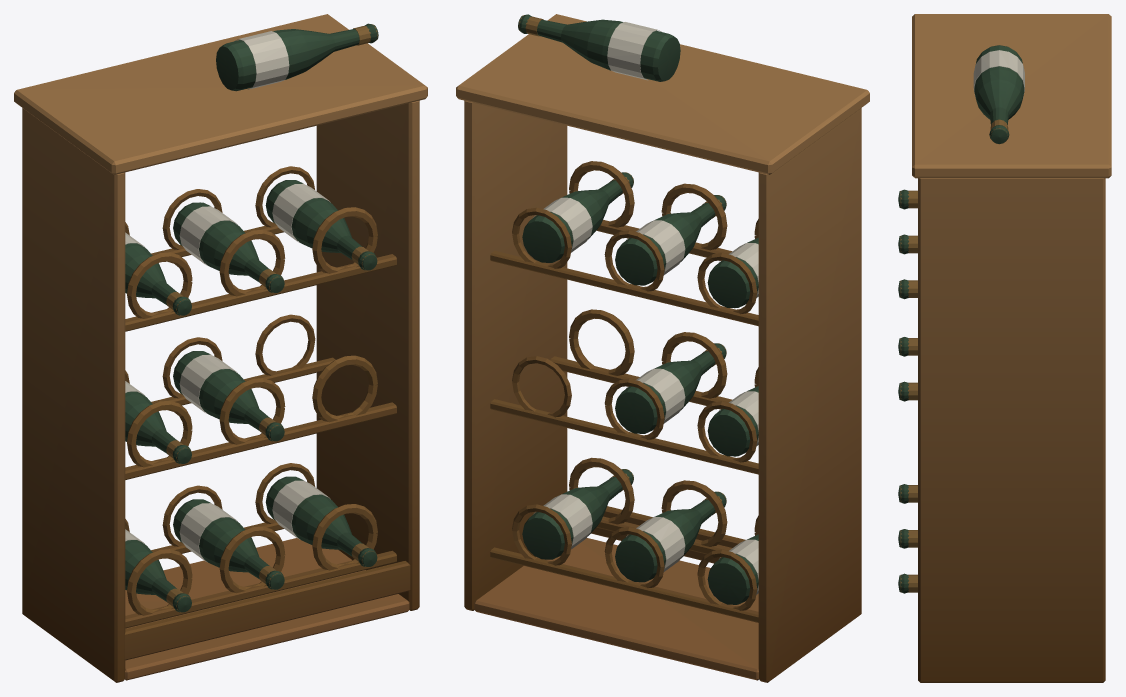
Rendered from wine-rack.glb.
The picture shows the model from 3 angles, left to right: view 1: azimuth 30°, elevation 25°; view 2: azimuth 150°, elevation 25°; view 3: azimuth 270°, elevation 25°; orthographic projection.
Visible parts, largest first — view 1: wine_rack; view 2: wine_rack; view 3: wine_rack.
Part boxes in pixels (x1=…): wine_rack: x1=14, y1=14, x2=427, y2=682; wine_rack: x1=456, y1=14, x2=869, y2=682; wine_rack: x1=898, y1=14, x2=1111, y2=682.
Bounding box in the file's own units: 0.58 × 1 × 0.342.
